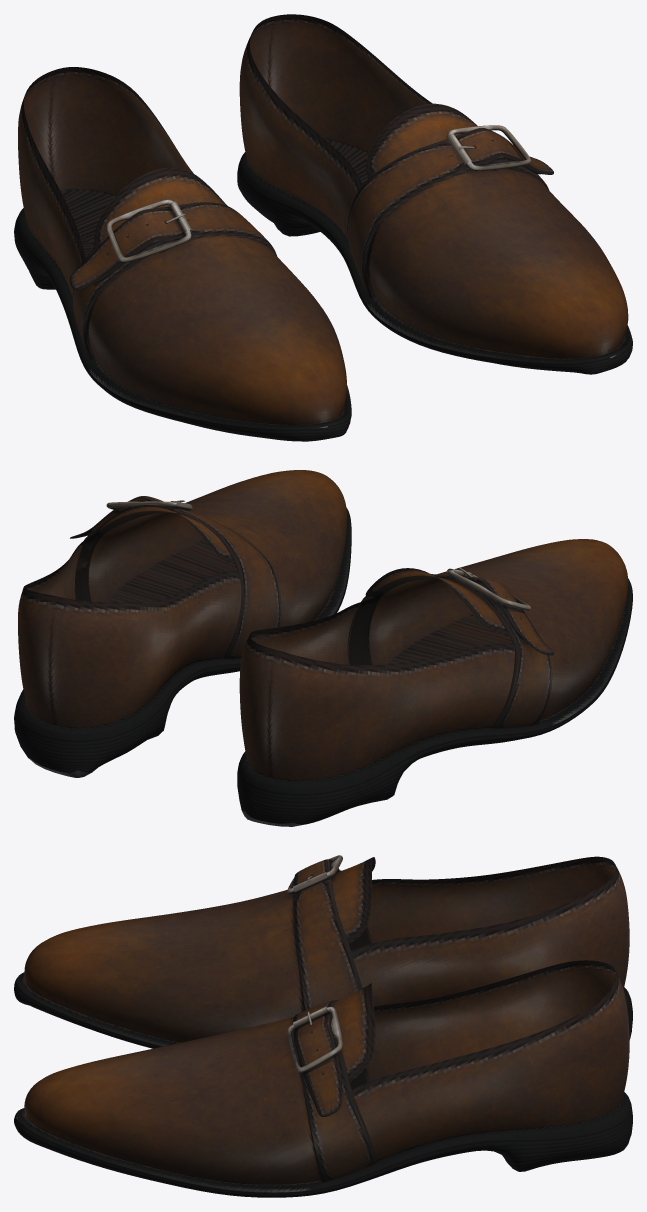
The model's file is Shoe.glb.
3 renders of one model, top to bottom at view 1: azimuth 30°, elevation 25°; view 2: azimuth 150°, elevation 25°; view 3: azimuth 270°, elevation 25°, orthographic.
Parts seen in each view (by area): view 1: ManShoe_01_Mesh; view 2: ManShoe_01_Mesh; view 3: ManShoe_01_Mesh.
Part boxes in pixels (x1,y1,x2,y2): ManShoe_01_Mesh: (14, 14, 632, 441); ManShoe_01_Mesh: (14, 470, 632, 826); ManShoe_01_Mesh: (14, 855, 632, 1197).
Bounding box in the file's own units: 0.2246 × 0.0779 × 0.2528.
Materials: 1 (1 with a texture image).
